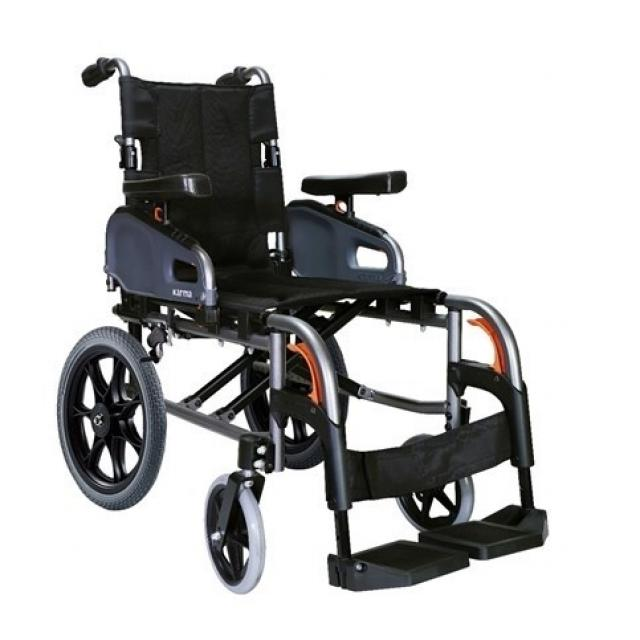wheelchair: (42, 40, 562, 603)
